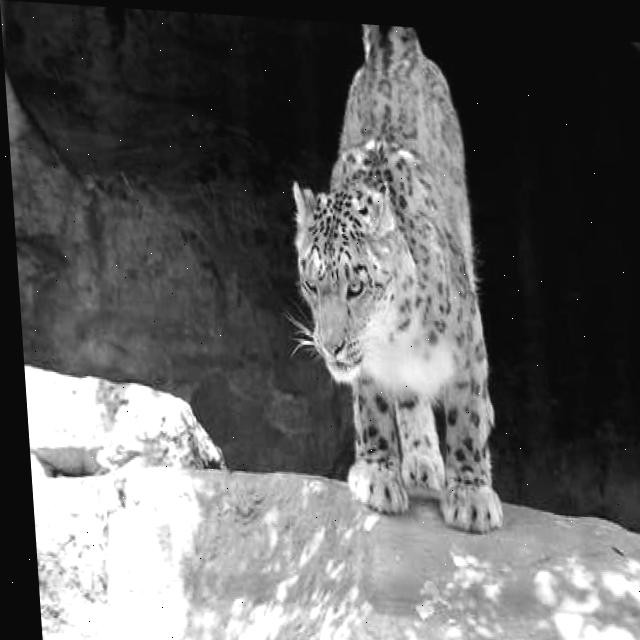Leopard: (265, 18, 505, 534)
